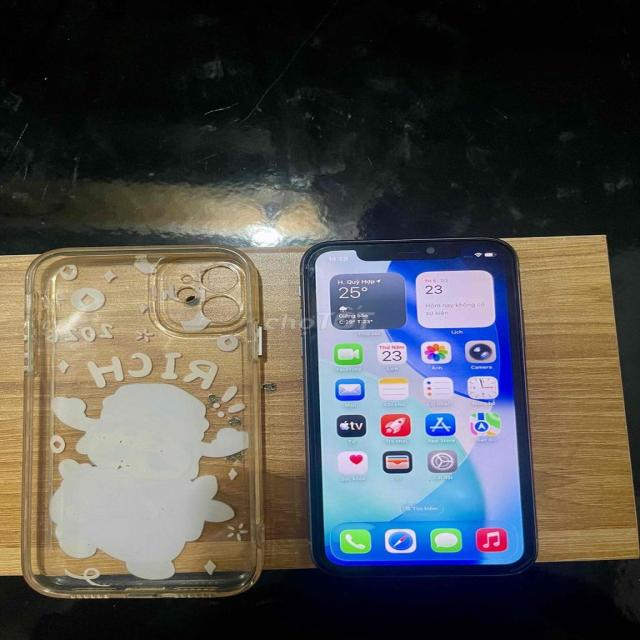gen_11: (295, 228, 565, 581)
